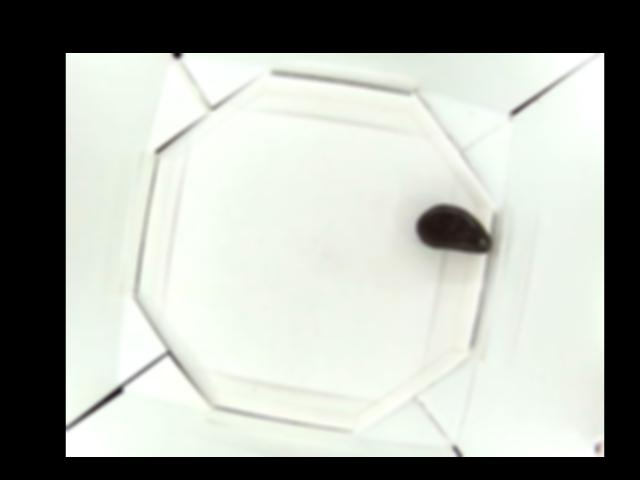Pebble: (416, 204, 494, 252)
